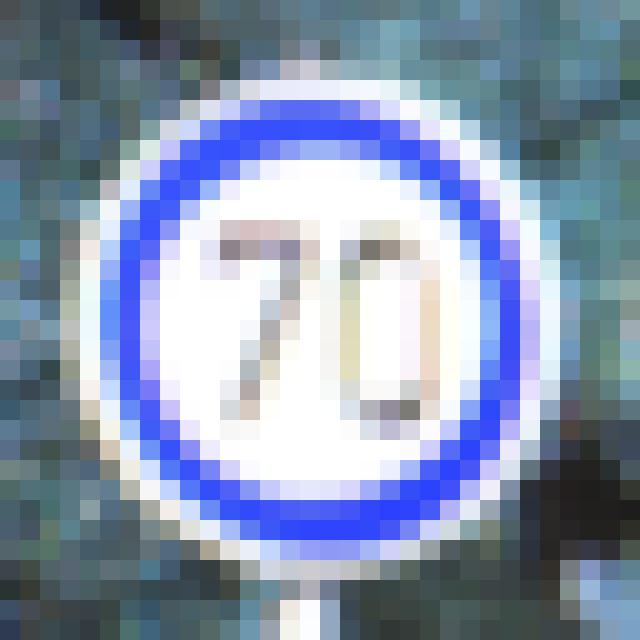SPEED LIMIT 70: (64, 83, 550, 563)
